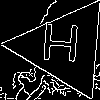H: (39, 23, 82, 71)
